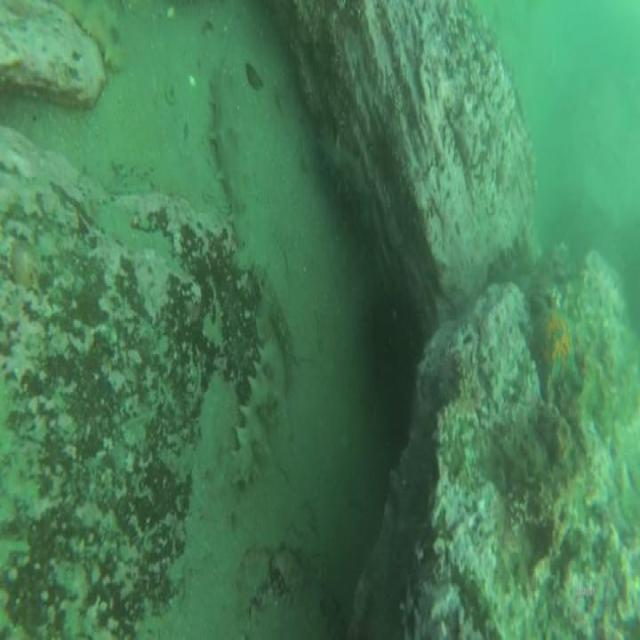holothurian: (230, 322, 286, 478), (210, 65, 250, 213), (63, 1, 125, 76)
starfish: (528, 289, 585, 398)
